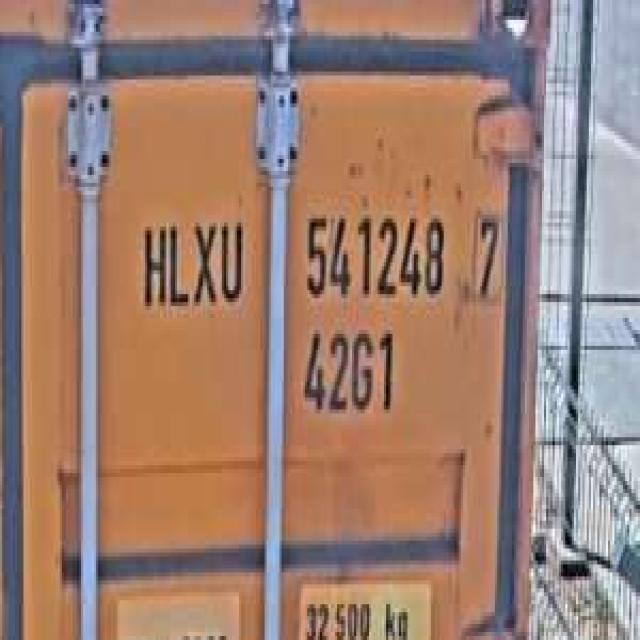dv: (467, 203, 508, 306)
owner: (136, 203, 248, 314)
serial: (301, 199, 448, 306)
size: (296, 314, 399, 425)
